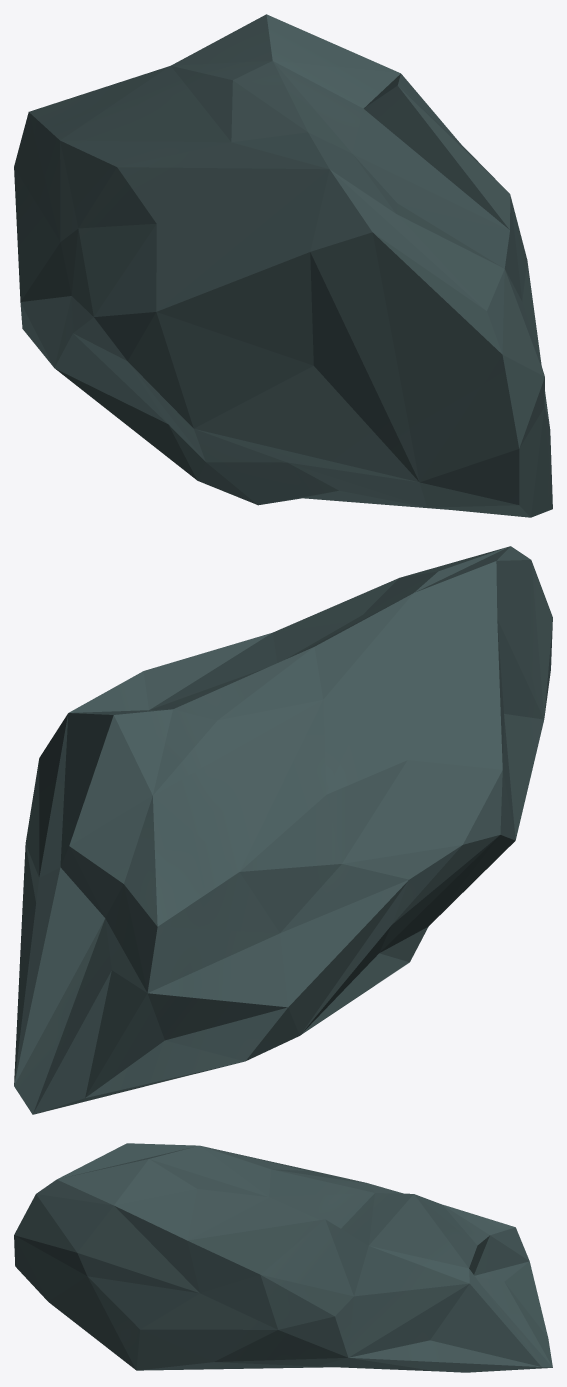
The model's file is SM_rock1.fbx.
The picture shows the model from 3 angles, top to bottom: view 1: azimuth 30°, elevation 25°; view 2: azimuth 150°, elevation 25°; view 3: azimuth 270°, elevation 25°; orthographic projection. The views are drawn at different scales.
Parts seen in each view (by area): view 1: SM_rock1; view 2: SM_rock1; view 3: SM_rock1.
Boxes of the visible parts, bbox=[...] form: SM_rock1: bbox=[14, 14, 552, 517]; SM_rock1: bbox=[14, 546, 552, 1114]; SM_rock1: bbox=[14, 1143, 552, 1372].
Size of the model in its own units: 1.54 by 1.28 by 3.01.
